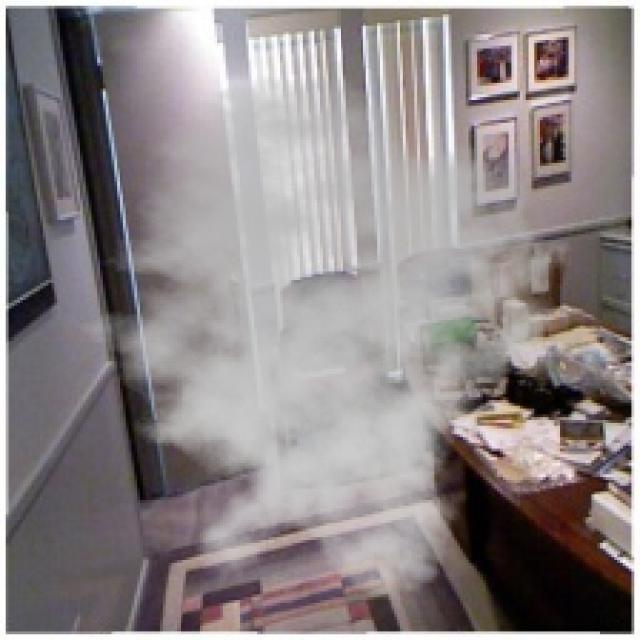Smoke: (57, 74, 586, 600)
